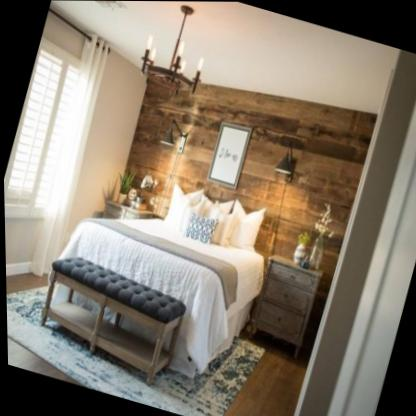Bed: (58, 185, 265, 379)
Curtains: (28, 35, 109, 278)
Nightstand: (248, 258, 319, 348)
Wall Panel: (117, 69, 378, 273)
Wooden floor: (220, 350, 305, 416)
